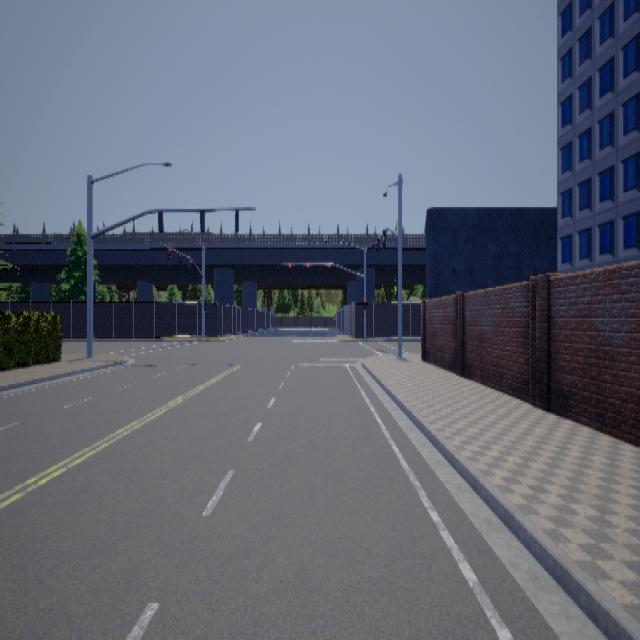red_light: (328, 264, 331, 274), (307, 264, 309, 274), (288, 264, 290, 274)
